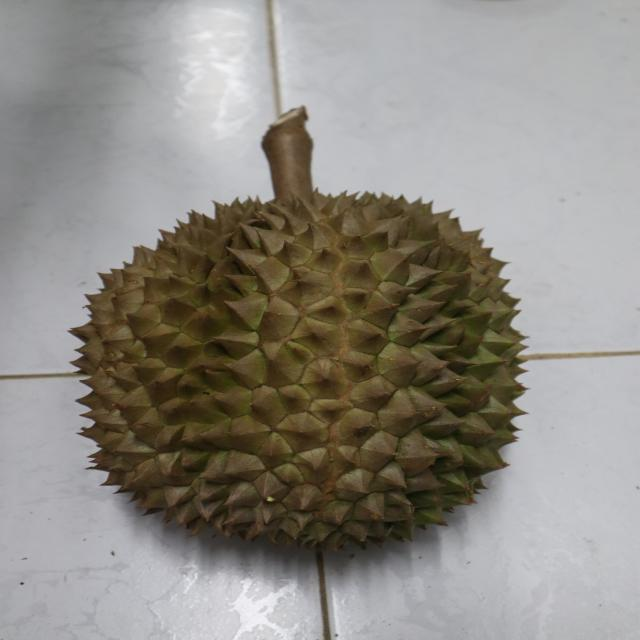mature: (74, 186, 532, 560)
